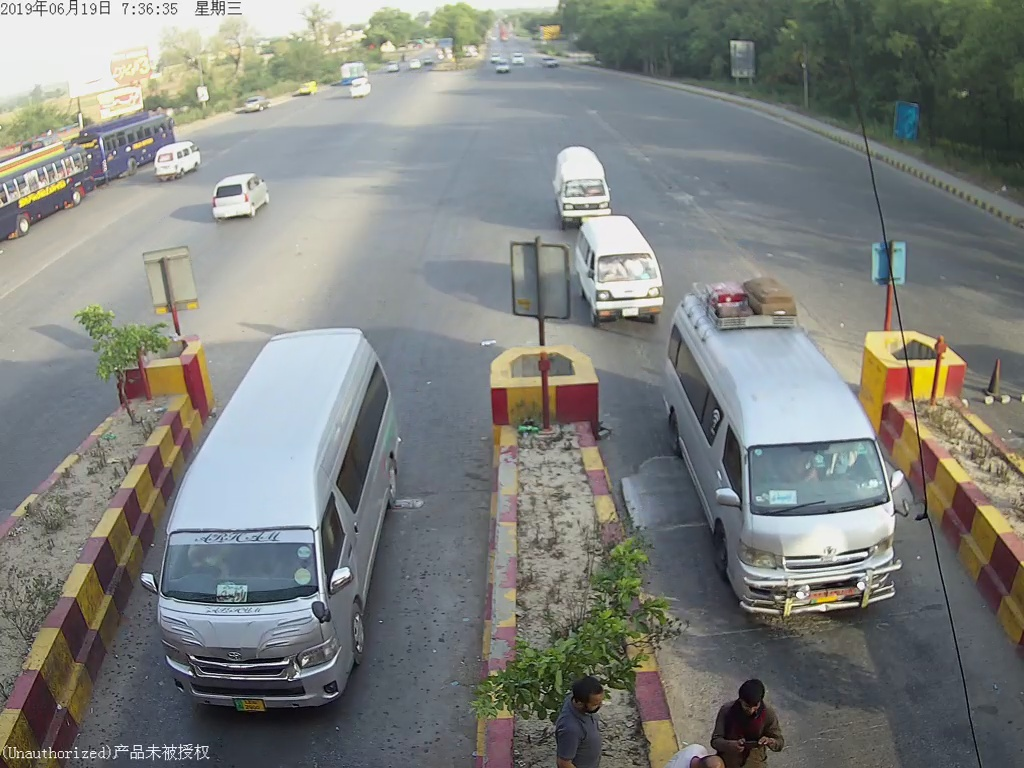Cat-1: (574, 215, 667, 323), (551, 144, 616, 230)
Cat-2: (157, 322, 402, 704), (661, 284, 905, 613)
